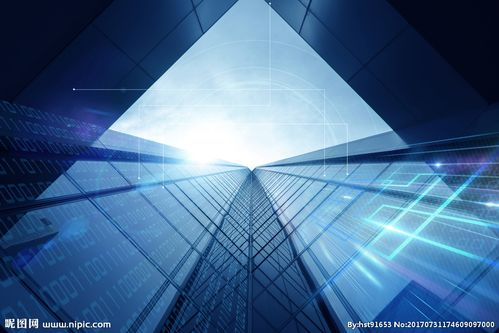buildings: (38, 116, 453, 314), (77, 35, 451, 156)
